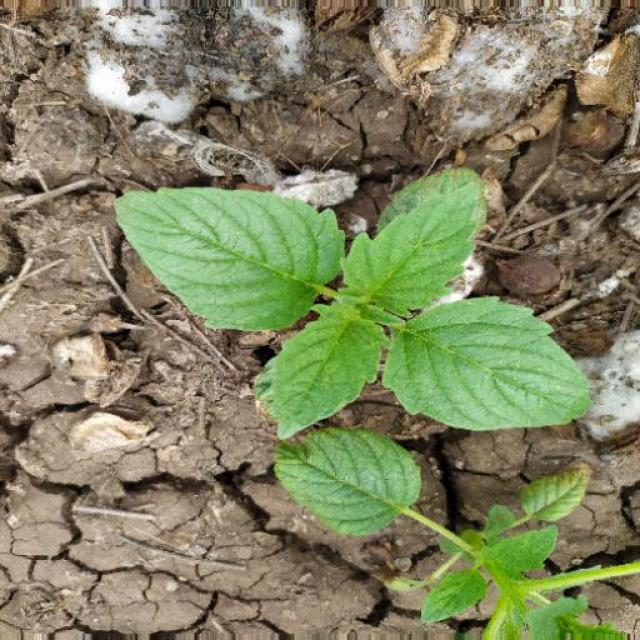crop: (66, 125, 615, 476)
